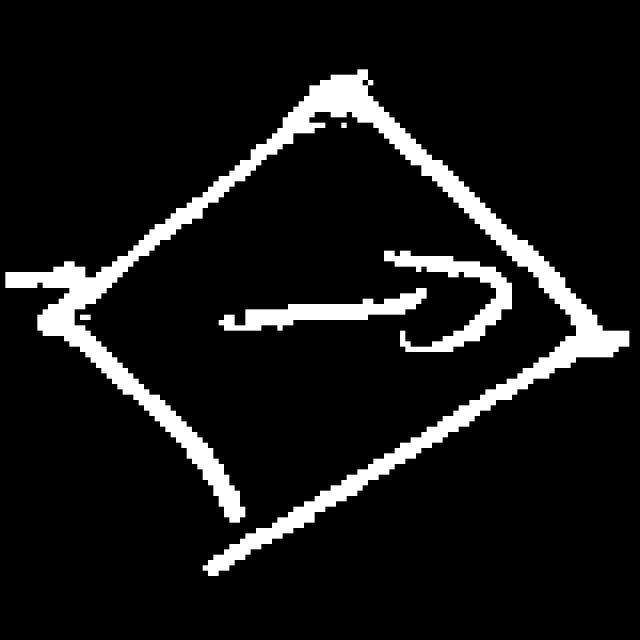dependant_current: (37, 67, 602, 579)
